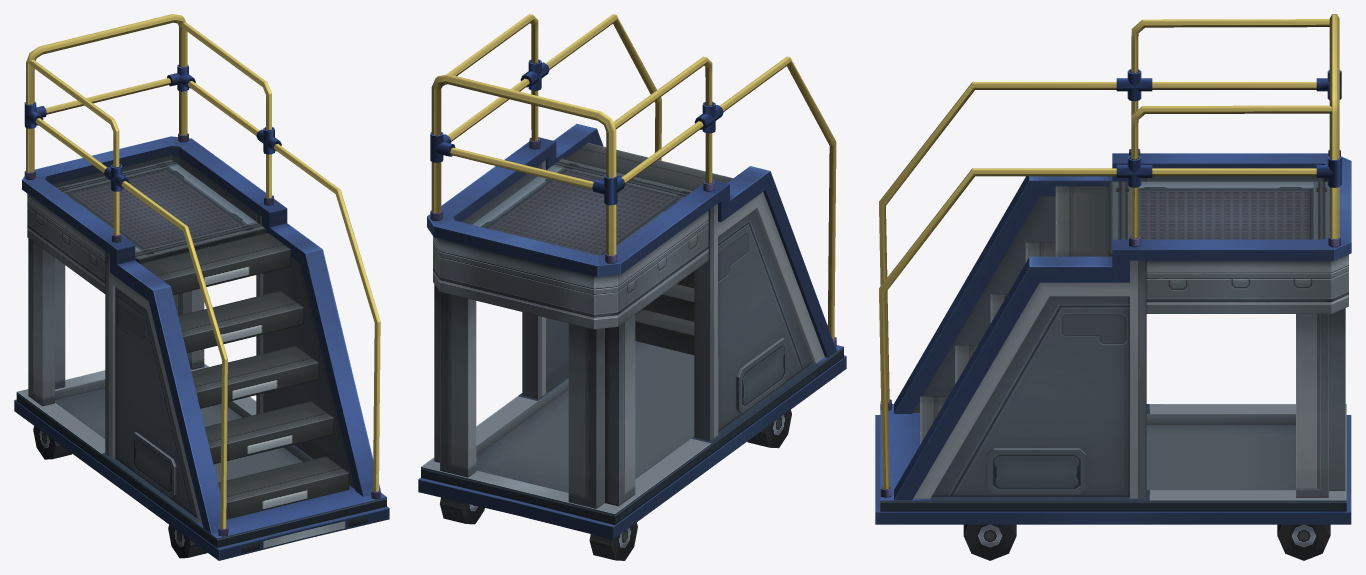
The model's file is my_carrier_01_stair_01.glb.
3 views of the same model, side by side, from view 1: azimuth 30°, elevation 25°; view 2: azimuth 150°, elevation 25°; view 3: azimuth 270°, elevation 25° (orthographic). The views are drawn at different scales.
Parts seen in each view (by area): view 1: my_carrier_01_stair_01; view 2: my_carrier_01_stair_01; view 3: my_carrier_01_stair_01.
Part boxes in pixels (x1,y1,x2,y2): my_carrier_01_stair_01: [14, 14, 389, 560]; my_carrier_01_stair_01: [418, 14, 846, 560]; my_carrier_01_stair_01: [875, 14, 1351, 560].
Bounding box in the file's own units: 0.0086 × 0.0193 × 0.0179.
Materials: 1 (1 with a texture image).
